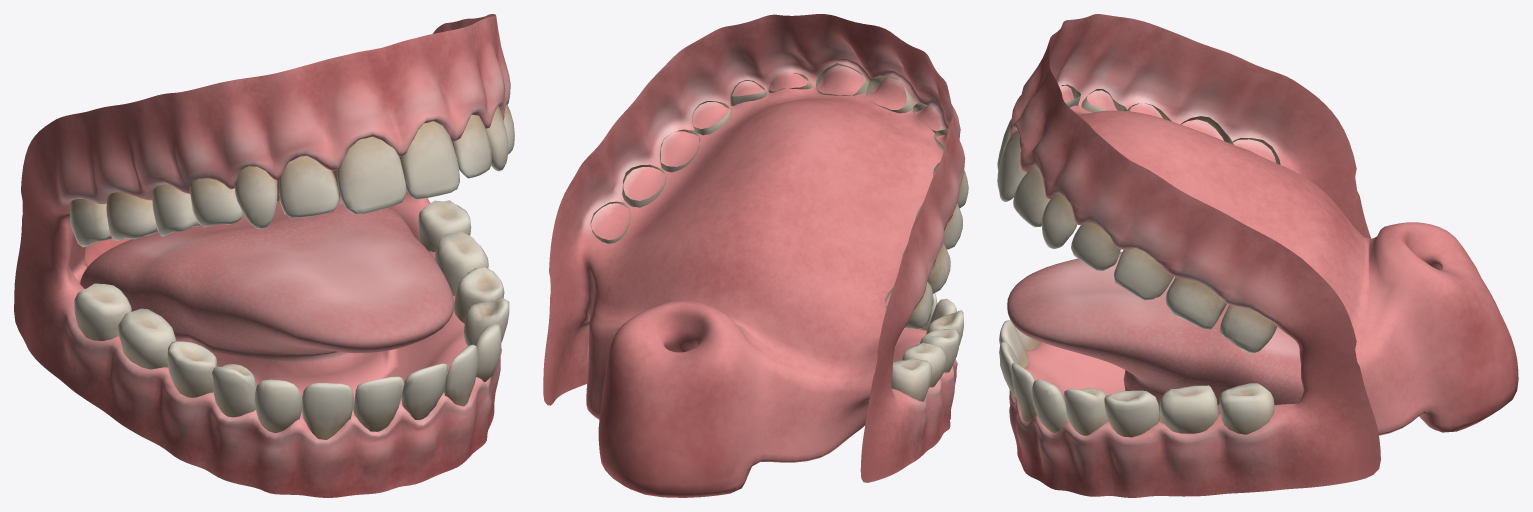
File: Human_Teeth2.fbx
3 renders of one model, left to right at view 1: azimuth 30°, elevation 25°; view 2: azimuth 150°, elevation 25°; view 3: azimuth 270°, elevation 25°, orthographic. The views are drawn at different scales.
Visible parts, largest first — view 1: Gums.001, Incisors.009, Incisors.010, Incisors.008, Molars.009, Molars.010, Incisors.015, Pre-molars.015, Incisors.014, Canines.005, Canines.006, Molars.012 (+13 smaller); view 2: Gums.001, Molars.010, Molars.009, Pre-molars.015, Molars.011, Molars.012, Pre-molars.008, Pre-molars.014, Incisors.009, Molars.015; view 3: Gums.001, Molars.013, Molars.014, Pre-molars.010, Molars.015, Pre-molars.011, Molars.008, Pre-molars.009, Pre-molars.012, Incisors.011, Canines.004, Canines.007 (+4 smaller).
Boxes of the visible parts, box(x1,y1,x2,y2) form: Gums.001: box(14, 14, 510, 497); Incisors.009: box(336, 136, 406, 213); Incisors.010: box(399, 121, 459, 199); Incisors.008: box(279, 156, 340, 217); Molars.009: box(118, 308, 176, 369); Molars.010: box(74, 283, 131, 340); Incisors.015: box(301, 382, 353, 439); Pre-molars.015: box(167, 341, 217, 397); Incisors.014: box(353, 376, 404, 431); Canines.005: box(234, 166, 277, 229); Canines.006: box(254, 379, 301, 433); Molars.012: box(106, 192, 158, 240); Gums.001: box(543, 14, 965, 497); Molars.010: box(891, 359, 931, 401); Molars.009: box(902, 342, 946, 387); Pre-molars.015: box(920, 329, 959, 372); Molars.011: box(885, 282, 933, 329); Molars.012: box(902, 243, 950, 293); Pre-molars.008: box(915, 203, 962, 249); Pre-molars.014: box(926, 310, 963, 344); Incisors.009: box(866, 75, 914, 113); Molars.015: box(622, 164, 666, 207); Gums.001: box(1007, 14, 1518, 497); Molars.013: box(1159, 385, 1219, 433); Molars.014: box(1219, 383, 1274, 434); Pre-molars.010: box(1104, 390, 1159, 437); Molars.015: box(1165, 277, 1226, 329); Pre-molars.011: box(1114, 248, 1173, 300); Molars.008: box(1219, 305, 1276, 353); Pre-molars.009: box(1064, 388, 1108, 435); Pre-molars.012: box(1071, 222, 1120, 271); Incisors.011: box(1013, 167, 1050, 227); Canines.004: box(1042, 194, 1077, 249); Canines.007: box(1031, 379, 1068, 432).
Size of the model in its own units: 6.72 by 6.97 by 8.36.
1 material, 1 textured.
